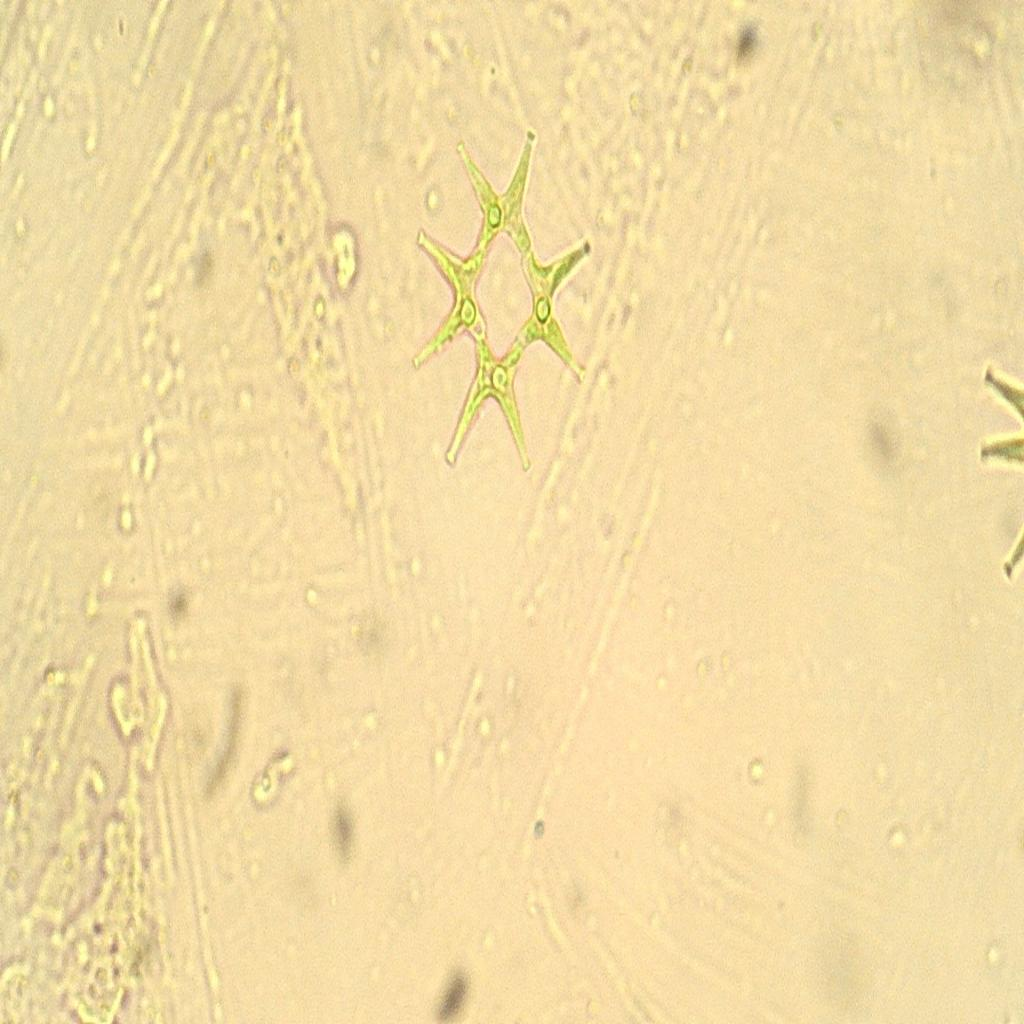Pediastrum_CO: (401, 77, 602, 499)
